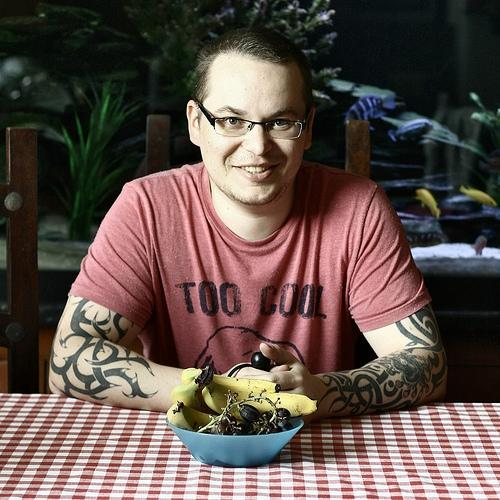banana: (202, 380, 318, 420), (166, 401, 260, 432), (182, 366, 281, 393), (170, 366, 221, 417)
grape: (240, 404, 262, 424), (251, 350, 271, 372), (219, 414, 237, 432), (236, 422, 254, 436), (277, 420, 294, 431), (277, 408, 290, 421), (265, 424, 275, 432)
